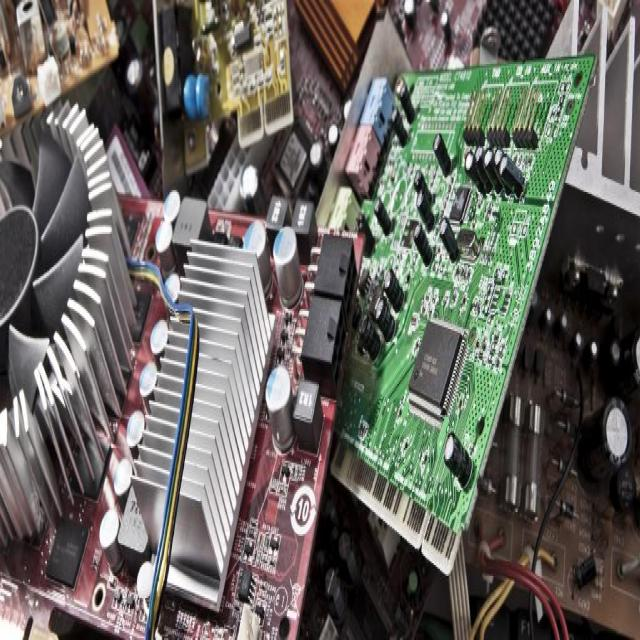heap: (4, 1, 585, 640)
